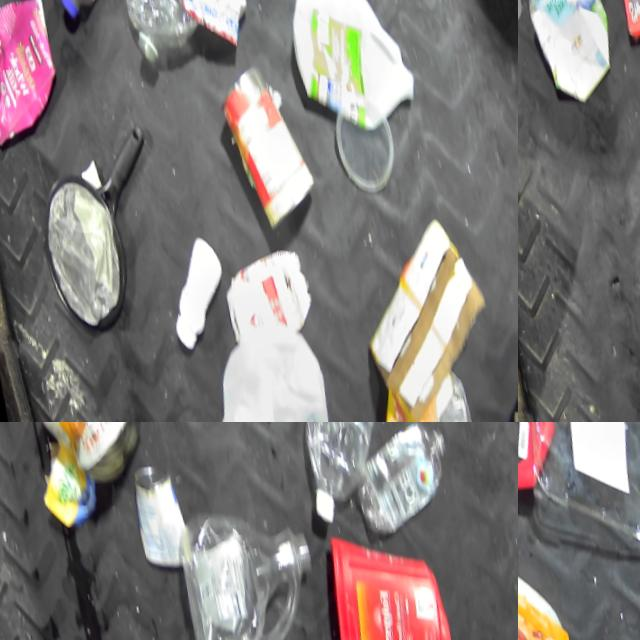can: (212, 50, 318, 233), (121, 456, 193, 586)
milk_jug: (278, 0, 424, 134), (193, 314, 344, 422)
non_white_jug: (307, 513, 463, 640), (518, 564, 592, 640)
plastic_bottle: (170, 498, 328, 640), (339, 422, 465, 552), (273, 422, 413, 522), (105, 0, 236, 73)
